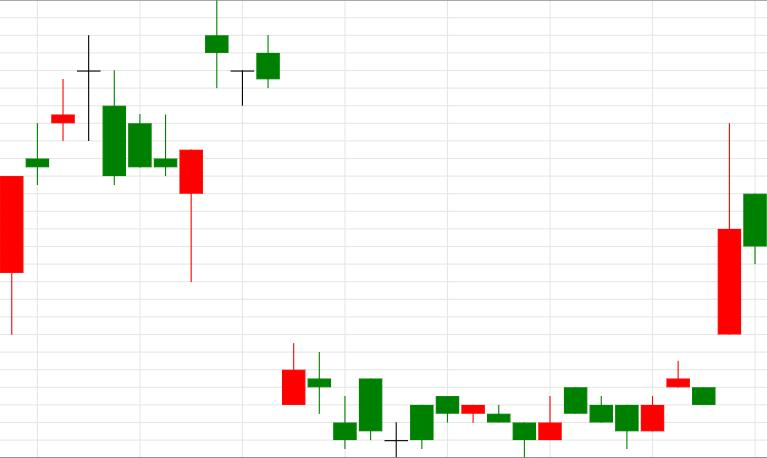hammer_rise: (78, 34, 203, 283)
